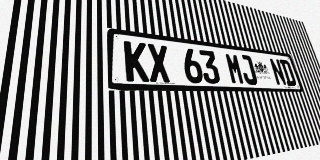3: (199, 50, 221, 84)
6: (181, 47, 204, 83)
D: (279, 59, 297, 86)
J: (238, 54, 258, 85)
K: (124, 41, 149, 82)
M: (224, 53, 245, 85)
N: (269, 58, 287, 86)
X: (147, 43, 171, 83)
